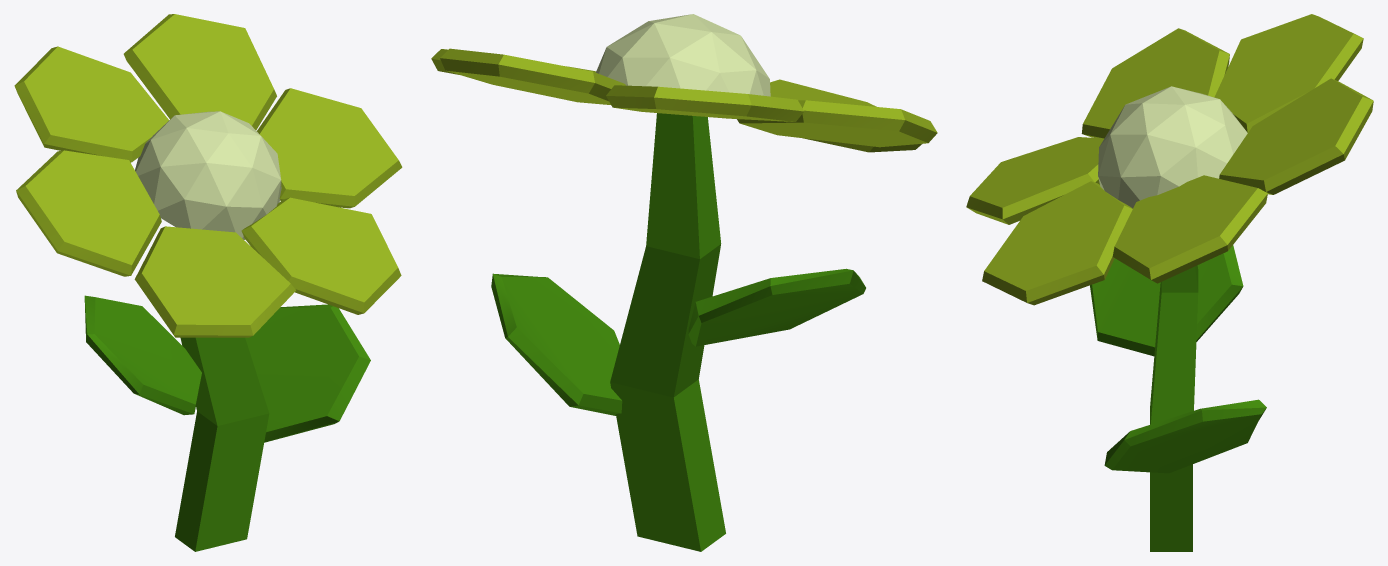
File: Flower_b_02.fbx
3 views of the same model, side by side, from view 1: azimuth 30°, elevation 25°; view 2: azimuth 150°, elevation 25°; view 3: azimuth 270°, elevation 25° (orthographic). The views are drawn at different scales.
Visible parts, largest first — view 1: Flower_b_02_LOD0; view 2: Flower_b_02_LOD0; view 3: Flower_b_02_LOD0.
Part boxes in pixels (x1,y1,x2,y2): Flower_b_02_LOD0: (14,14,402,551); Flower_b_02_LOD0: (431,14,937,551); Flower_b_02_LOD0: (966,14,1373,551).
Size of what is drawn, in the model's own units: 2.6 by 2.98 by 2.34.
